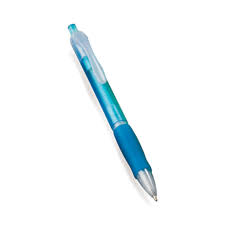qillqana: (65, 21, 164, 204)
